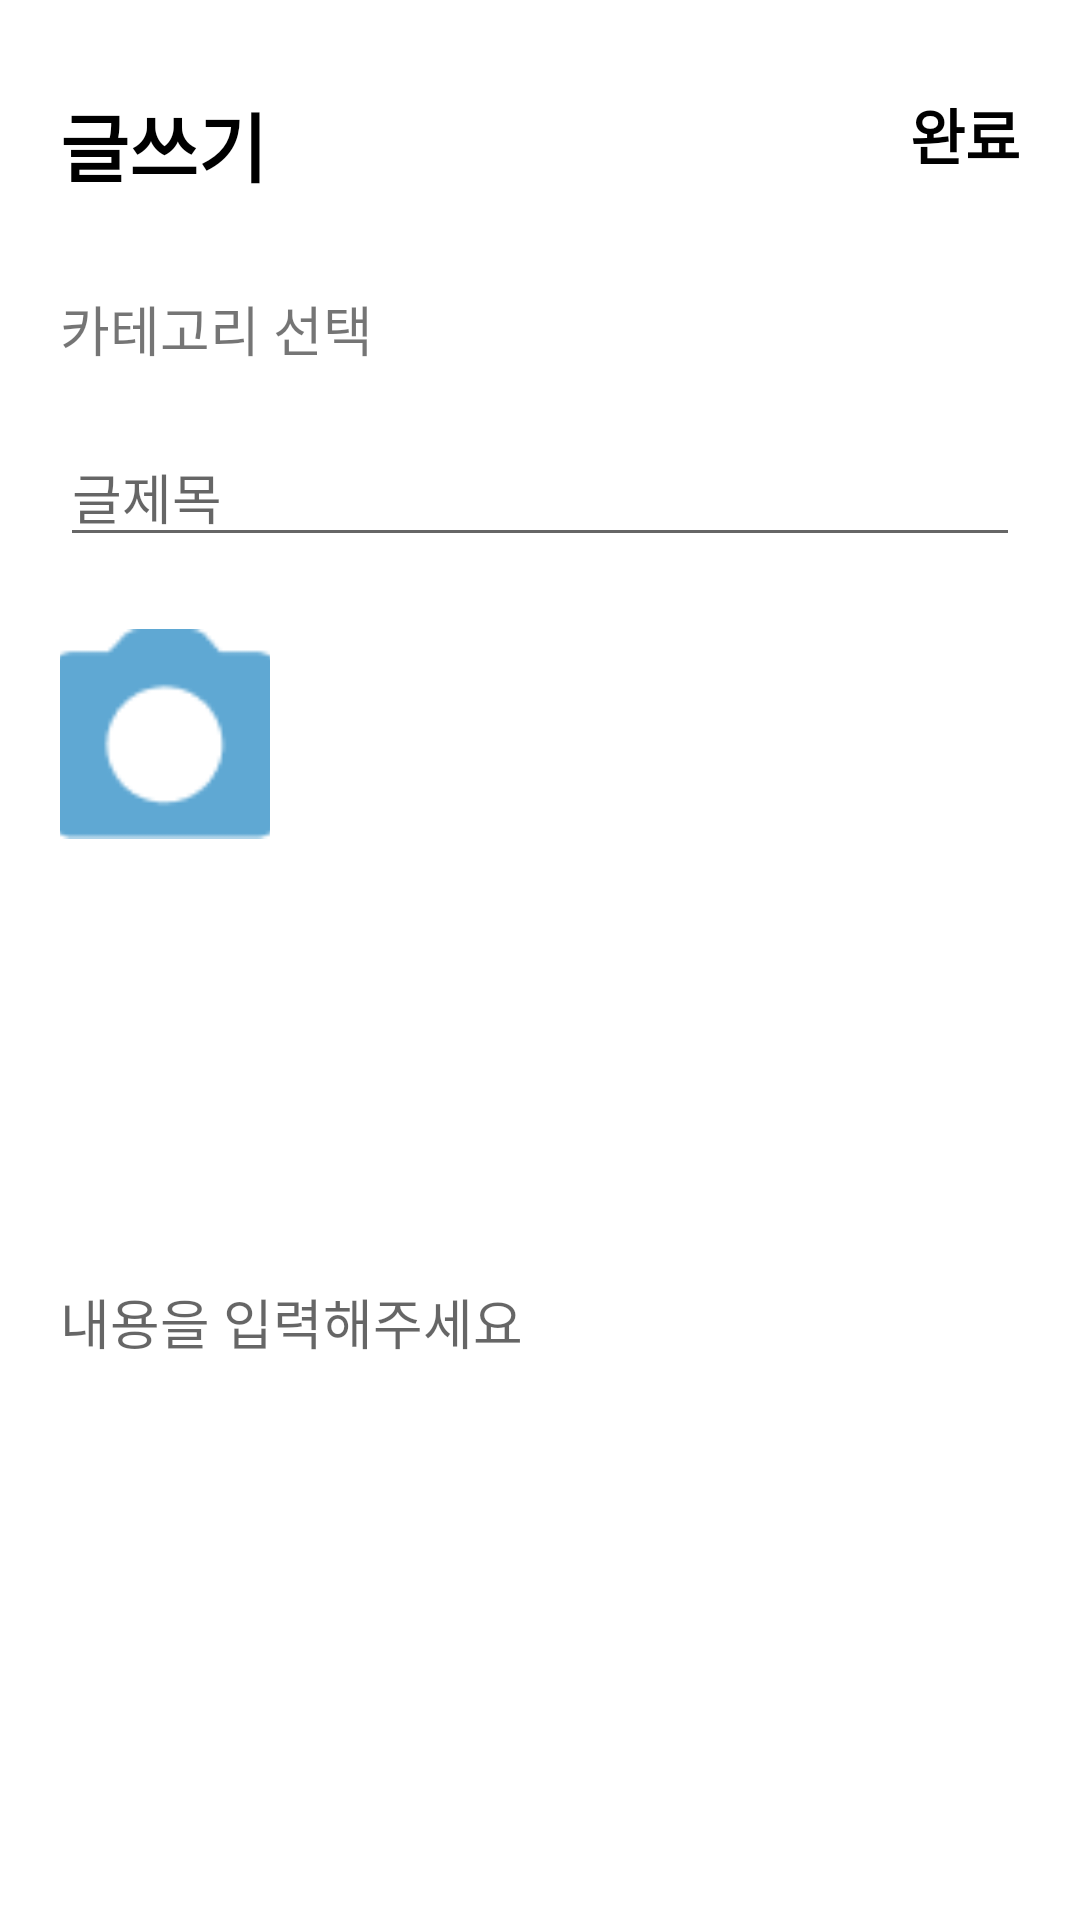

Where to tap for icons on this 1080*1920 app screen, as [x,y]:
camera: [165,734]
